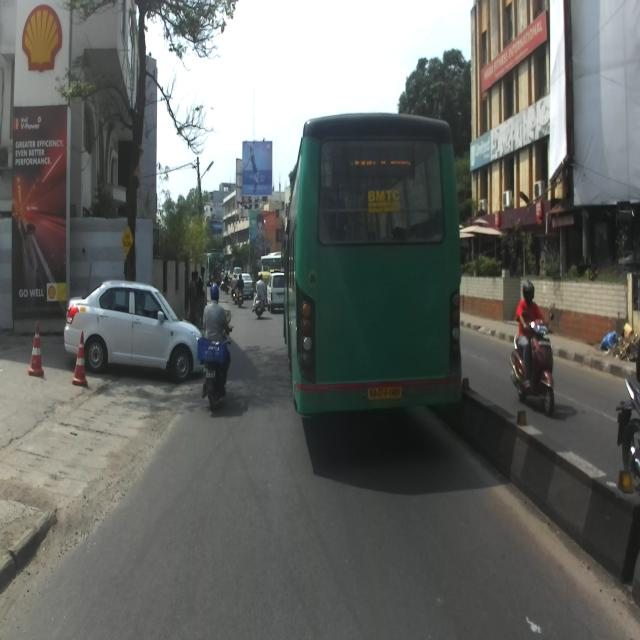barrier ahead at: (67, 327, 90, 390), (29, 328, 46, 385)
bus ahead at: (292, 123, 462, 420)
car ahead at: (68, 280, 203, 396)
motorcycle ahead at: (514, 316, 557, 414)
